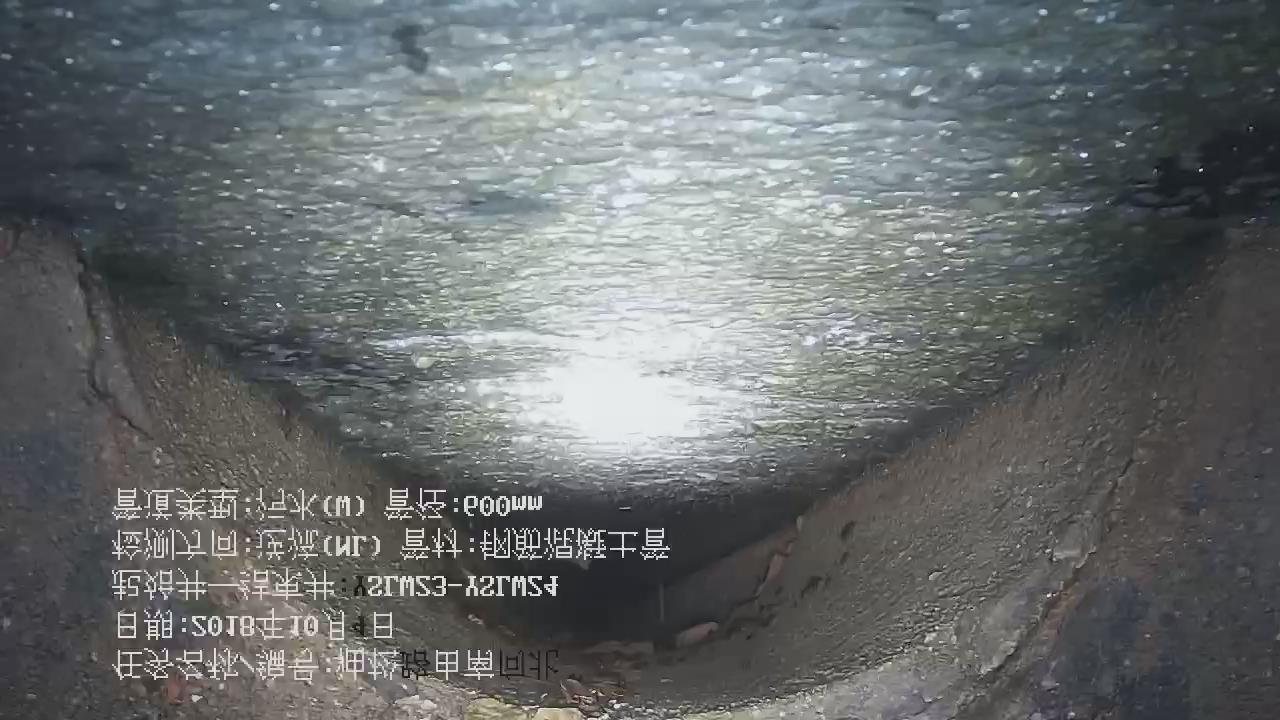FZ: (0, 1, 1279, 505)
